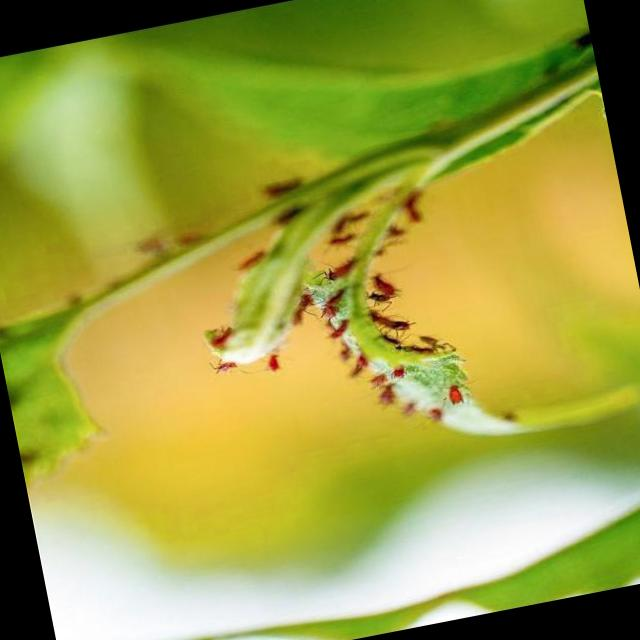aphid: (440, 366, 478, 417), (368, 302, 418, 340), (324, 208, 374, 244), (324, 252, 364, 282), (368, 270, 402, 302), (287, 290, 319, 322), (203, 323, 237, 352), (414, 329, 449, 357), (401, 190, 428, 226), (207, 352, 240, 377), (306, 266, 338, 290), (325, 316, 352, 341), (347, 352, 371, 376), (375, 383, 398, 408), (368, 371, 390, 390)
